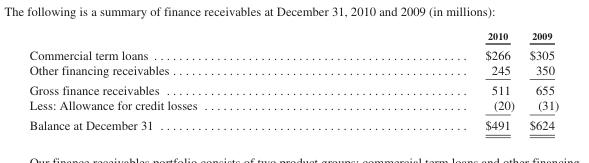table: (28, 29, 558, 132)
table column: (28, 29, 340, 132), (340, 29, 521, 132), (521, 29, 558, 132)
table column header: (28, 29, 558, 44)
table row: (28, 44, 558, 62), (28, 79, 558, 97), (28, 97, 558, 115), (28, 62, 558, 79), (28, 115, 558, 132), (28, 29, 558, 44)
